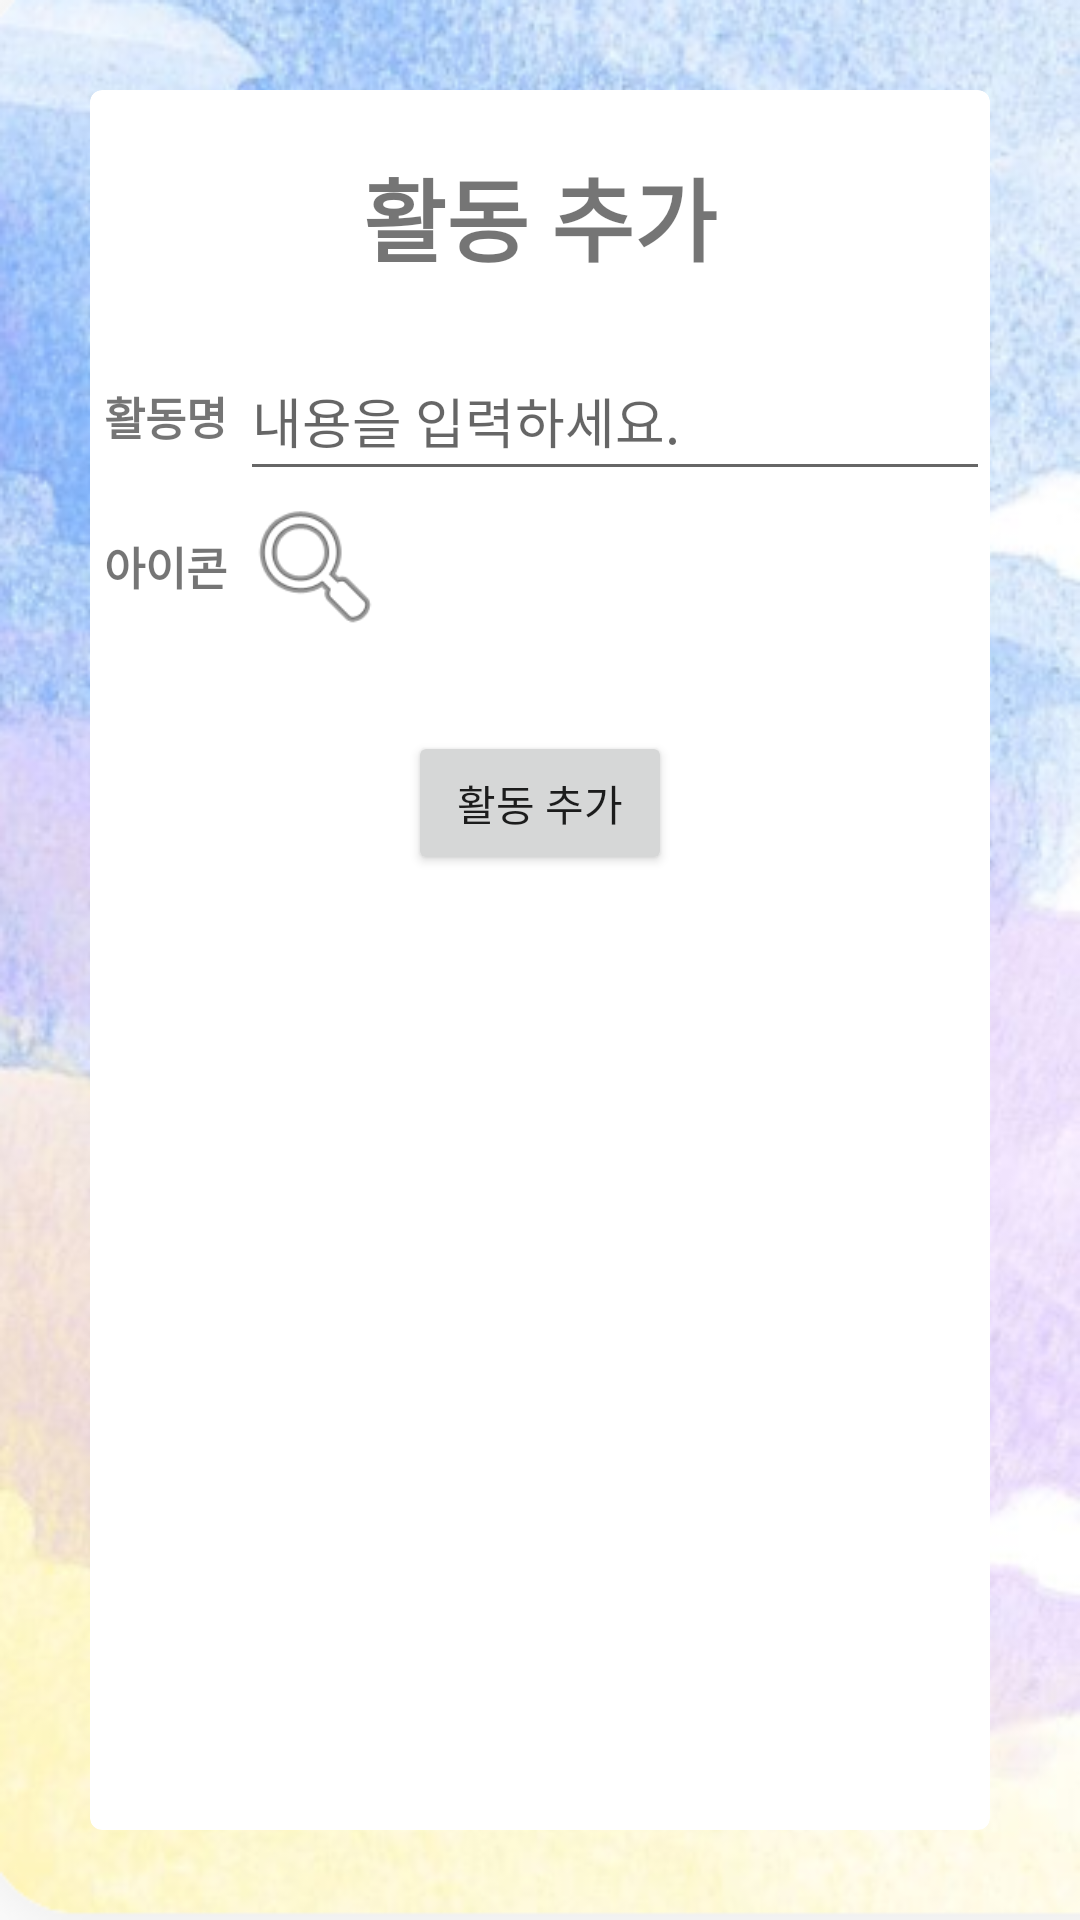

Screen size 1080px×1920px. Icon name, then its center in pixels as point (x, y):
search: point (315, 567)
